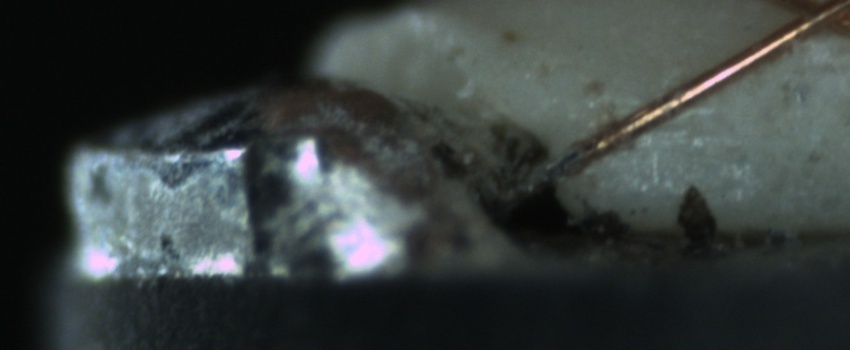CL: (769, 0, 847, 45)
TTCW: (502, 104, 653, 205)
